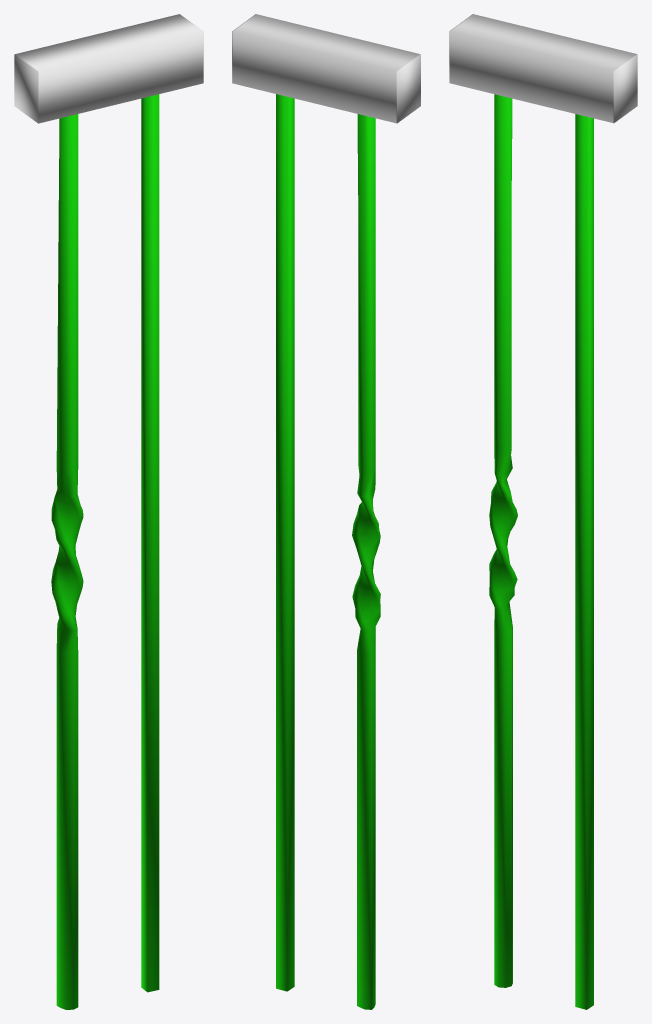
File: fence_default.fbx
3 views of the same model, side by side, from view 1: azimuth 30°, elevation 25°; view 2: azimuth 150°, elevation 25°; view 3: azimuth 330°, elevation 25° (orthographic).
Parts seen in each view (by area): view 1: fence, railing; view 2: fence, railing; view 3: fence, railing.
Boxes of the visible parts, box(x1,y1,x2,y2) form: fence: box(51, 94, 159, 1009); railing: box(14, 14, 203, 123); fence: box(276, 94, 380, 1009); railing: box(232, 14, 420, 123); fence: box(489, 94, 593, 1009); railing: box(449, 14, 637, 123).
Bounding box in the file's own units: 20 × 110 × 5.
